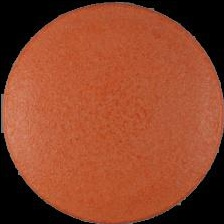68151-0561: (0, 0, 224, 224)
